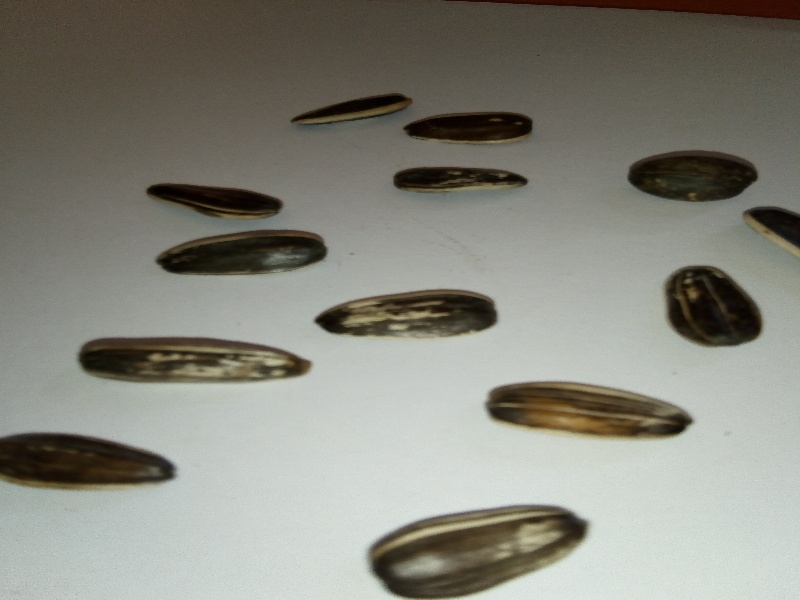girasol: (354, 486, 594, 600), (482, 369, 698, 452), (70, 327, 319, 394), (308, 274, 507, 345), (652, 256, 769, 352), (150, 222, 335, 280), (384, 161, 533, 199)
